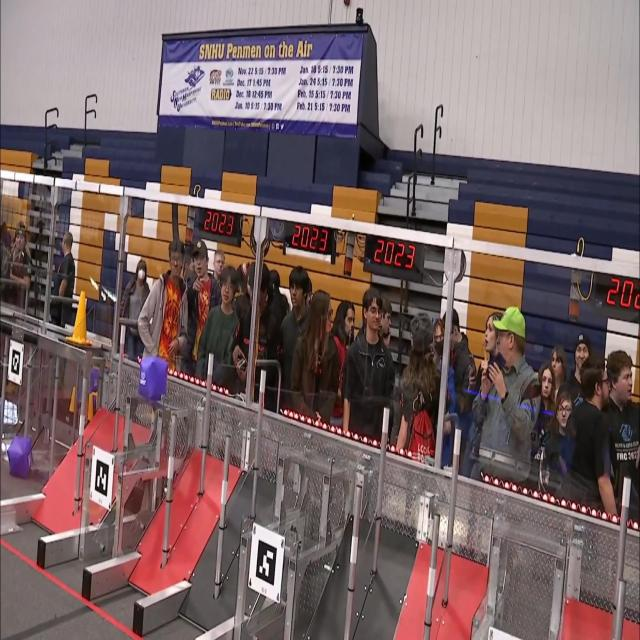frc_cone: (66, 290, 93, 348), (68, 385, 78, 414), (86, 392, 96, 421)
frc_cube: (139, 353, 169, 401), (8, 434, 34, 479), (89, 366, 100, 396)
